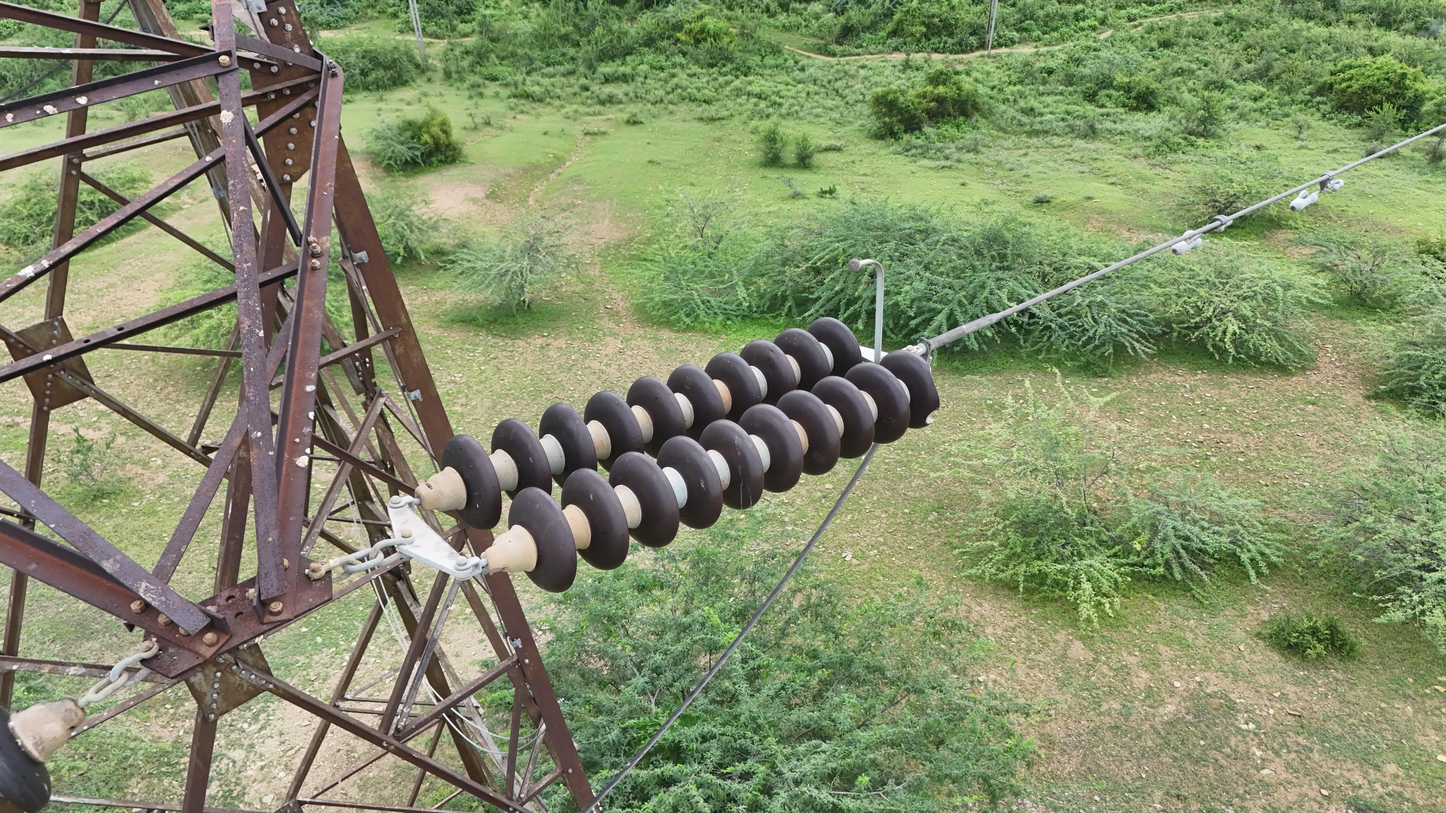broken_insulator: (884, 347, 946, 436)
